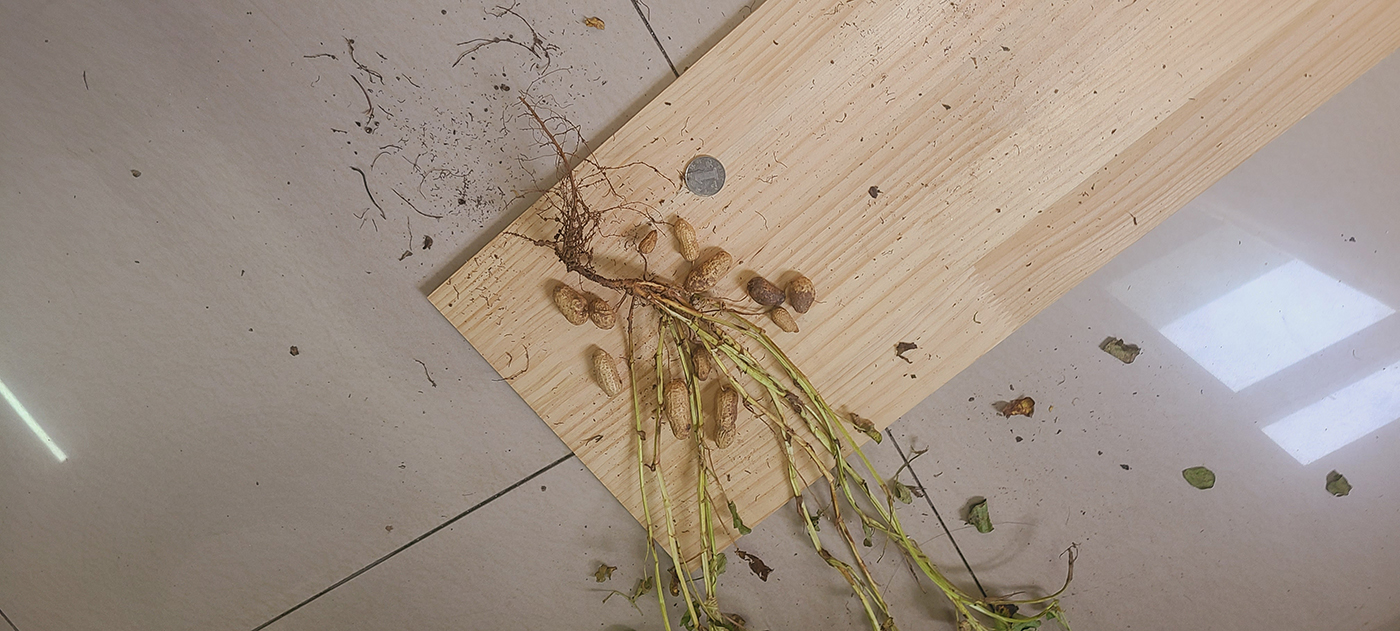h: (685, 250, 734, 293), (663, 380, 693, 438), (714, 383, 739, 450), (591, 348, 623, 398), (553, 283, 590, 325), (675, 218, 699, 263), (588, 295, 617, 329), (771, 306, 800, 335), (691, 345, 713, 380)
l: (748, 276, 786, 307), (789, 276, 815, 314)
